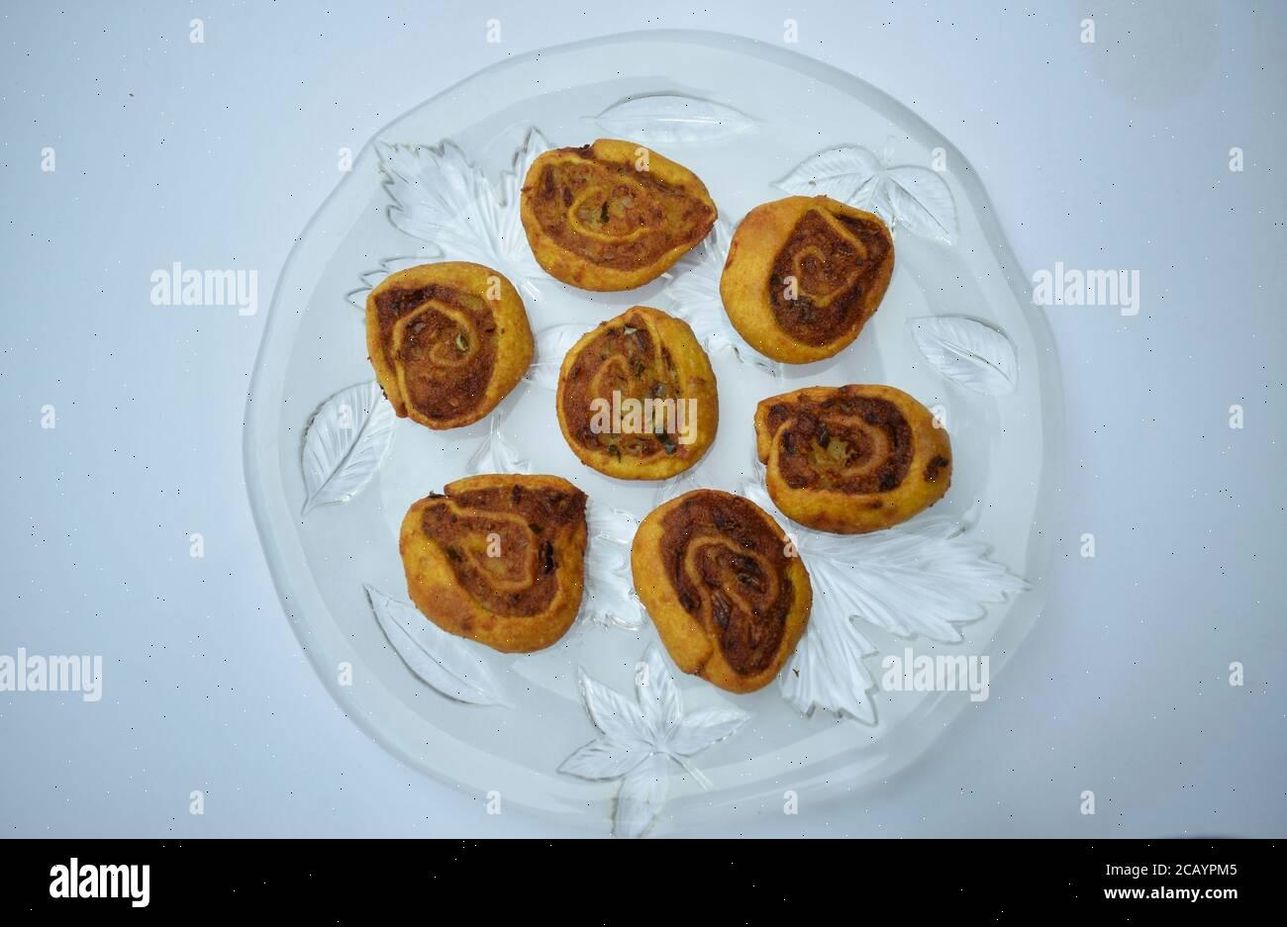bhakarwadi: (345, 114, 955, 705)
